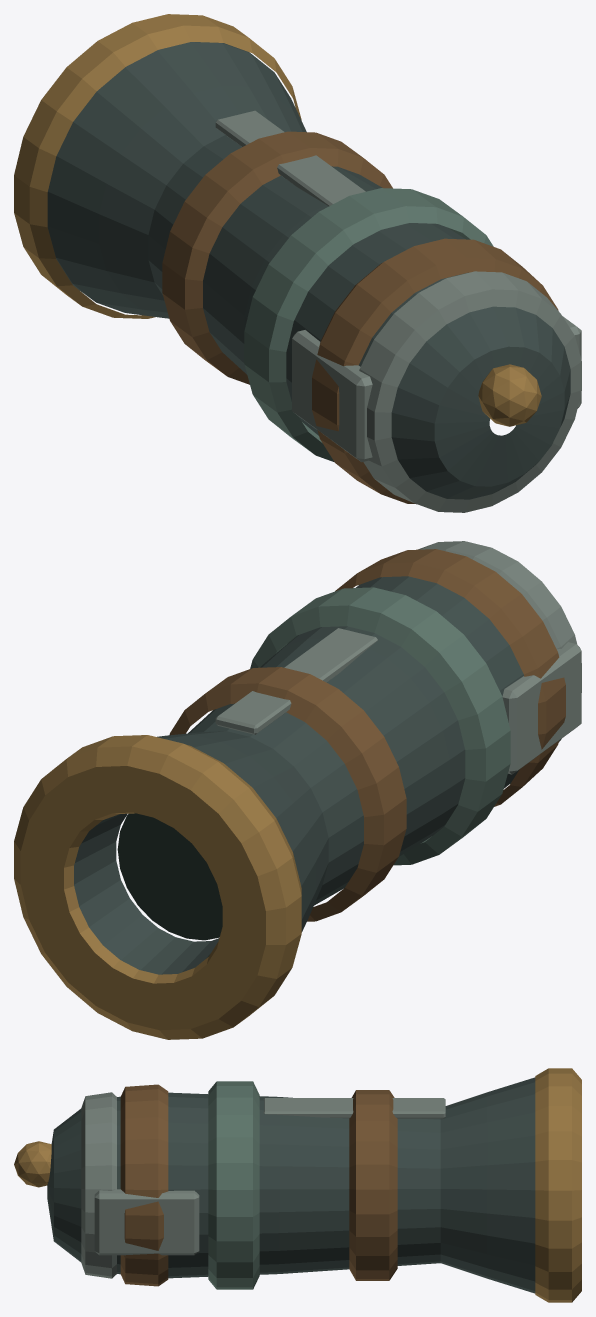
The model's file is gun_barrel_4.glb.
3 renders of one model, top to bottom at view 1: azimuth 30°, elevation 25°; view 2: azimuth 150°, elevation 25°; view 3: azimuth 270°, elevation 25°, orthographic. The views are drawn at different scales.
Parts seen in each view (by area): view 1: Metal, Fabric; view 2: Metal, Fabric, Stone; view 3: Metal, Fabric.
Boxes of the visible parts, x1,y1,x2,y2 form: Metal: [14, 14, 581, 512]; Fabric: [244, 188, 493, 462]; Metal: [14, 541, 581, 1039]; Fabric: [250, 587, 510, 865]; Stone: [117, 813, 222, 940]; Metal: [14, 1068, 581, 1302]; Fabric: [208, 1081, 259, 1289].
Size of the model in its own units: 1.77 by 1.77 by 4.31.
